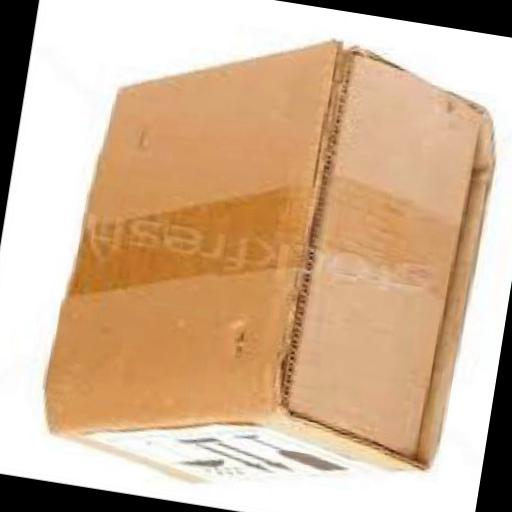cardboard: (34, 9, 511, 512)
